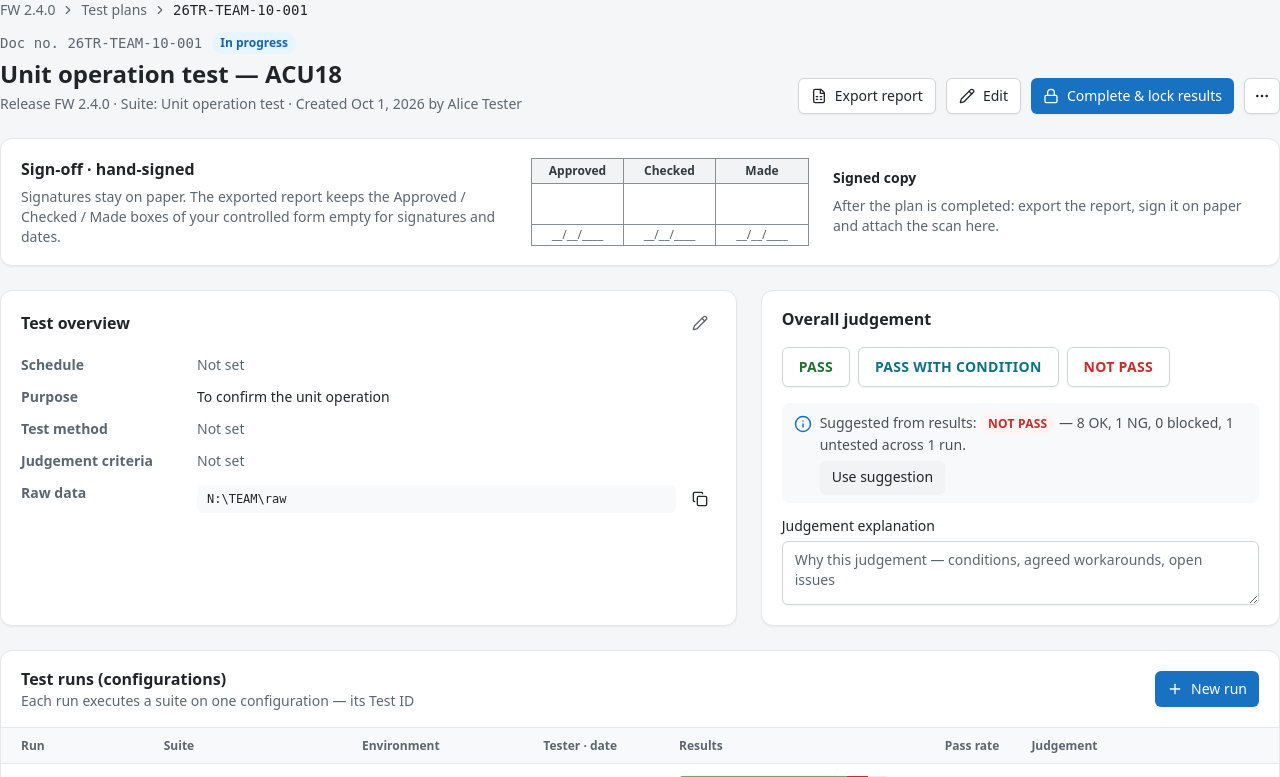
PlanDetailPage › deletes an open plan after confirmation and goes back to the list
This screenshot has width=1280, height=777.
Later steps or results of the test are not shown.
Click the button named "More plan actions": (1262, 96) left=1244, top=78, right=1279, bottom=114
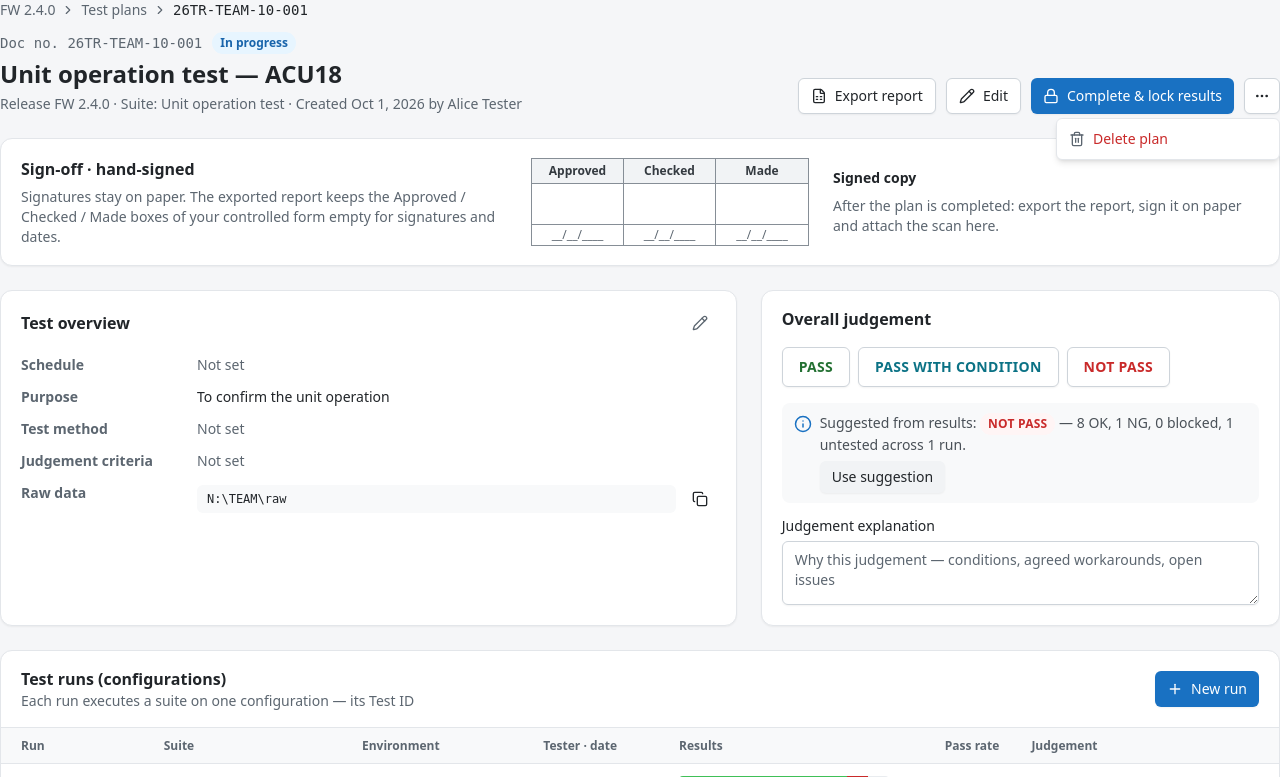
Click the menu item "Delete plan": (1118, 138) left=1069, top=129, right=1168, bottom=148
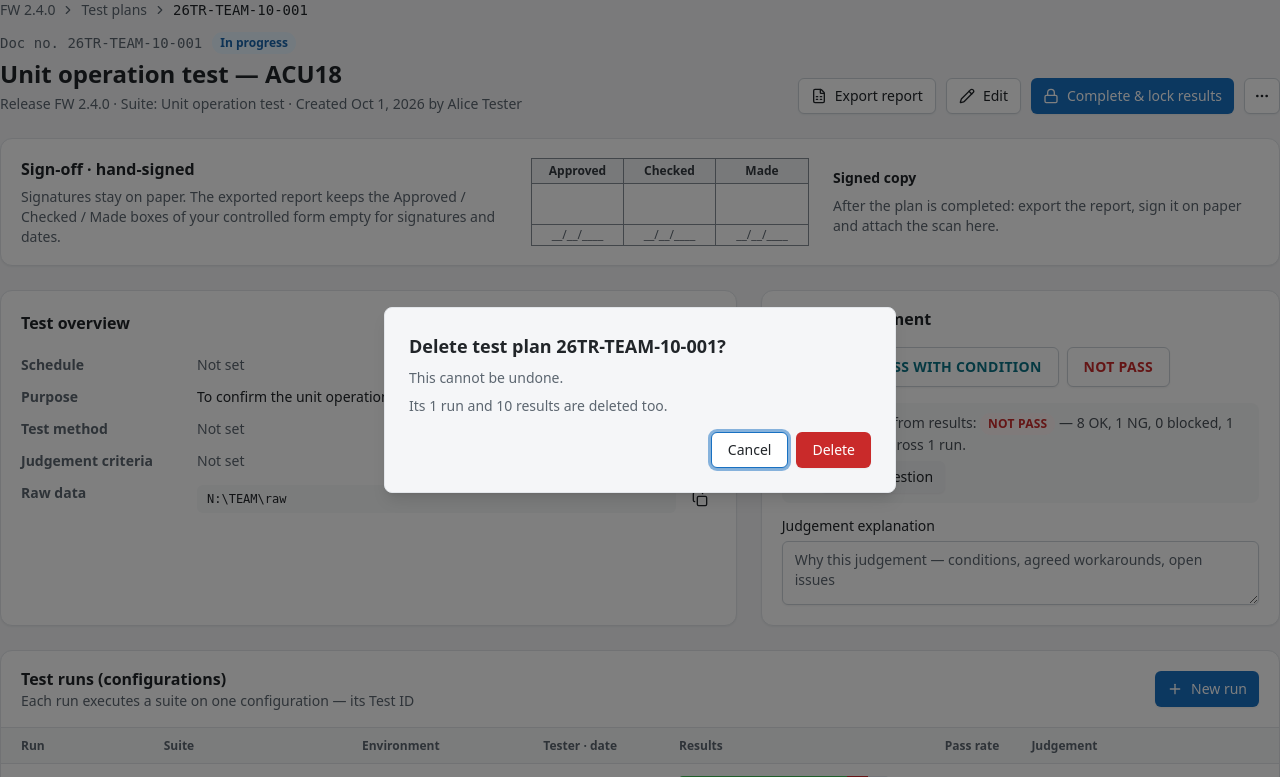
expect the dialog shows "Delete test plan 26TR-TEAM-10-001?": met, box left=409, top=334, right=726, bottom=358
expect the dialog shows "Its 1 run and 10 results are deleted too.": met, box left=384, top=307, right=896, bottom=493
